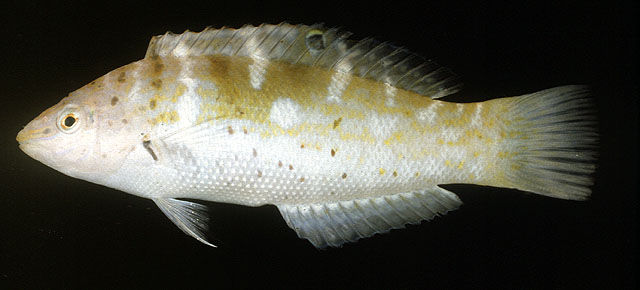fish: (16, 22, 598, 248)
